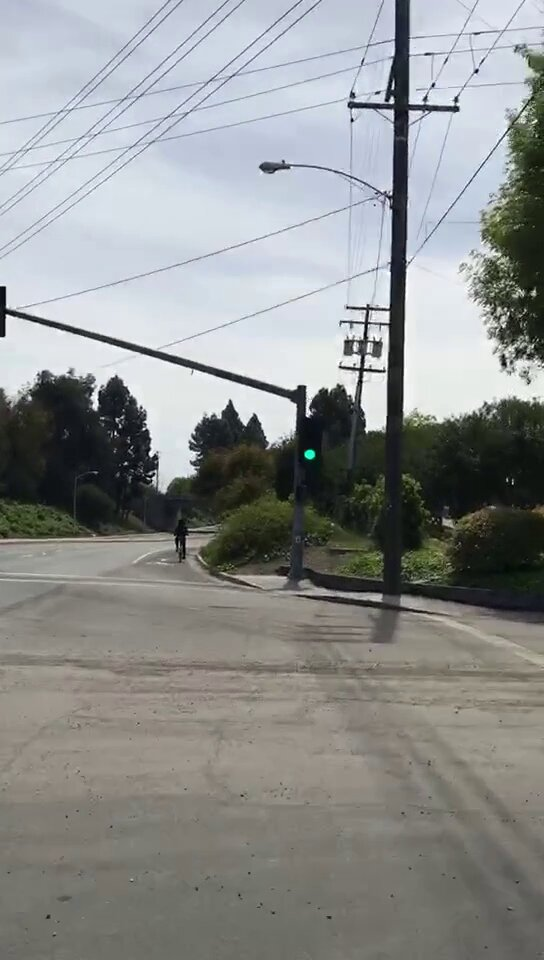green_light: (298, 424, 322, 466)
